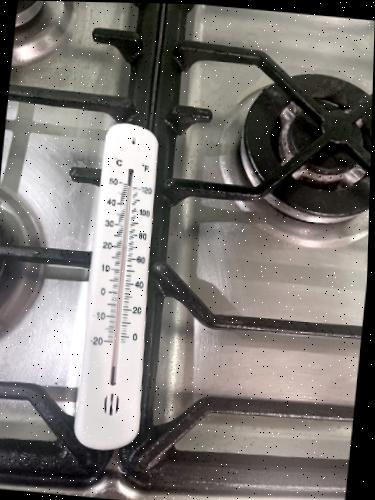thermo: (74, 122, 170, 449)
